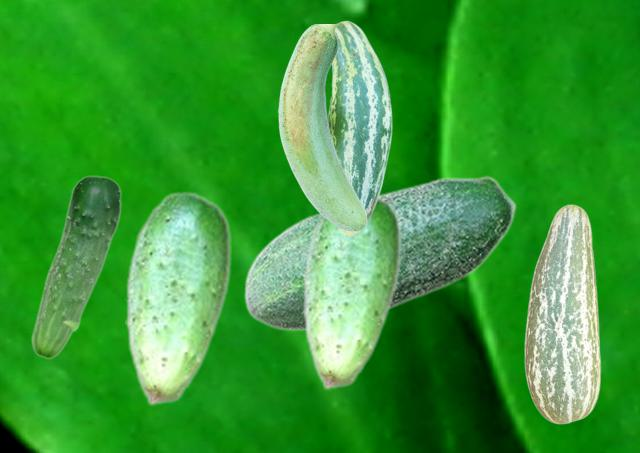cucumber: (243, 175, 516, 330), (125, 190, 230, 405), (302, 193, 400, 389), (278, 24, 366, 230), (30, 175, 121, 358), (524, 204, 600, 423), (328, 20, 391, 235)
